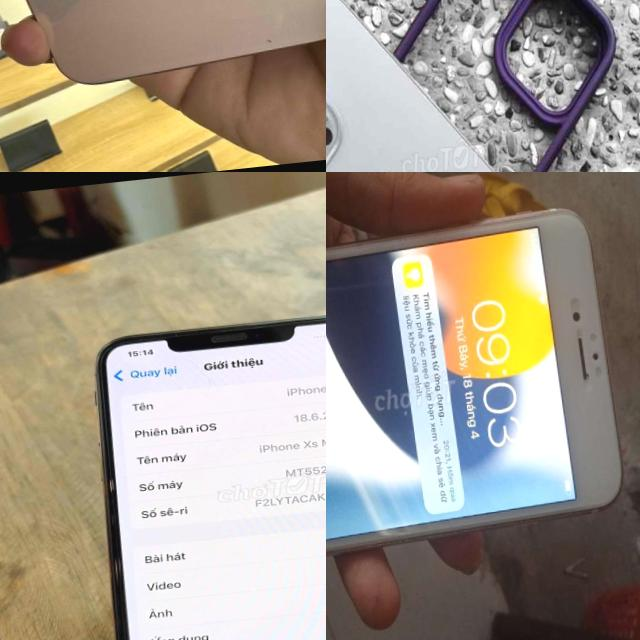gen_15: (326, 0, 602, 172)
gen_6: (326, 211, 621, 552)
gen_x_xs: (69, 301, 326, 640), (26, 0, 326, 83)
scratch: (257, 32, 276, 49)
